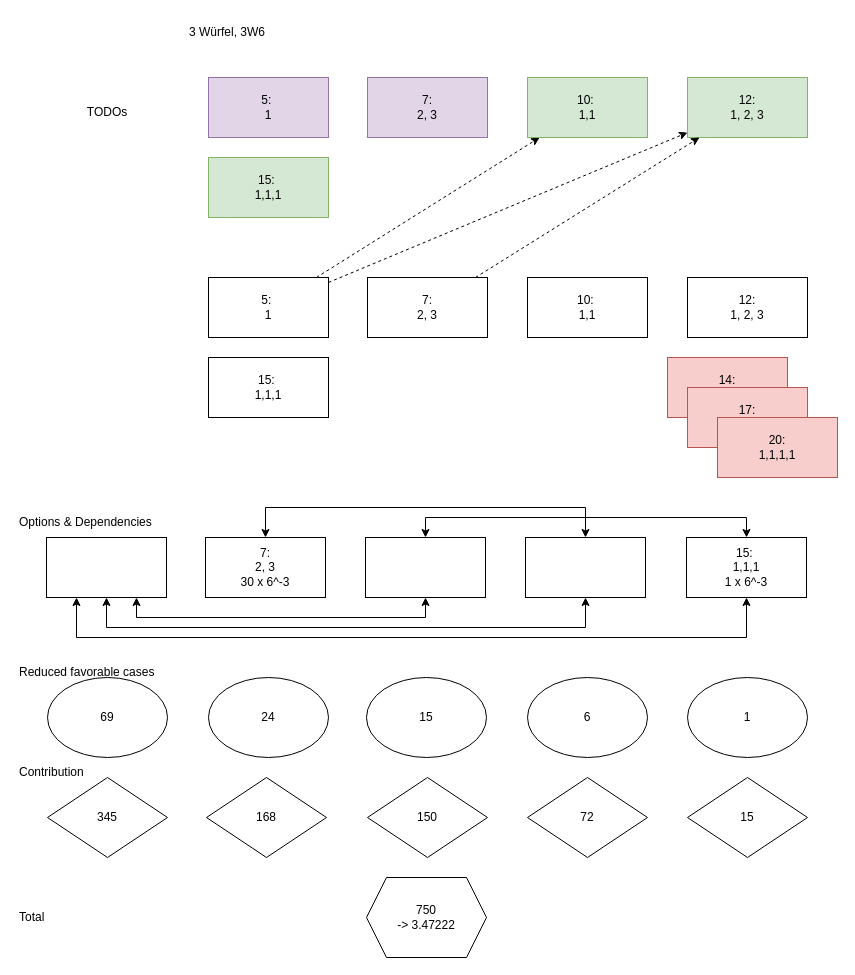
Image size: 855x975. Some labels were removed from this diagram. The shapes that lost their labels are listed below. From the top down, each one's centre as x and y in pixels, then its label:
the point at 106,567: 5: 1 91 x 6^-3
the point at 425,567: 10: 1,1 16 x 6^-3
the point at 585,567: 12: 1, 2, 3 6 x 6^-3
